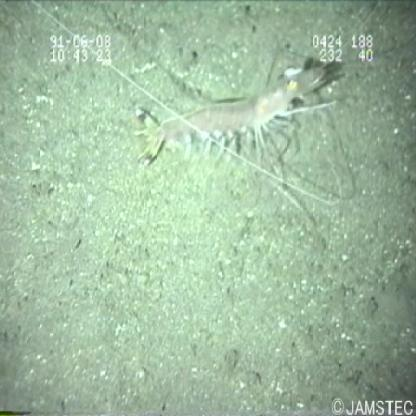Bio: (130, 28, 364, 211)
